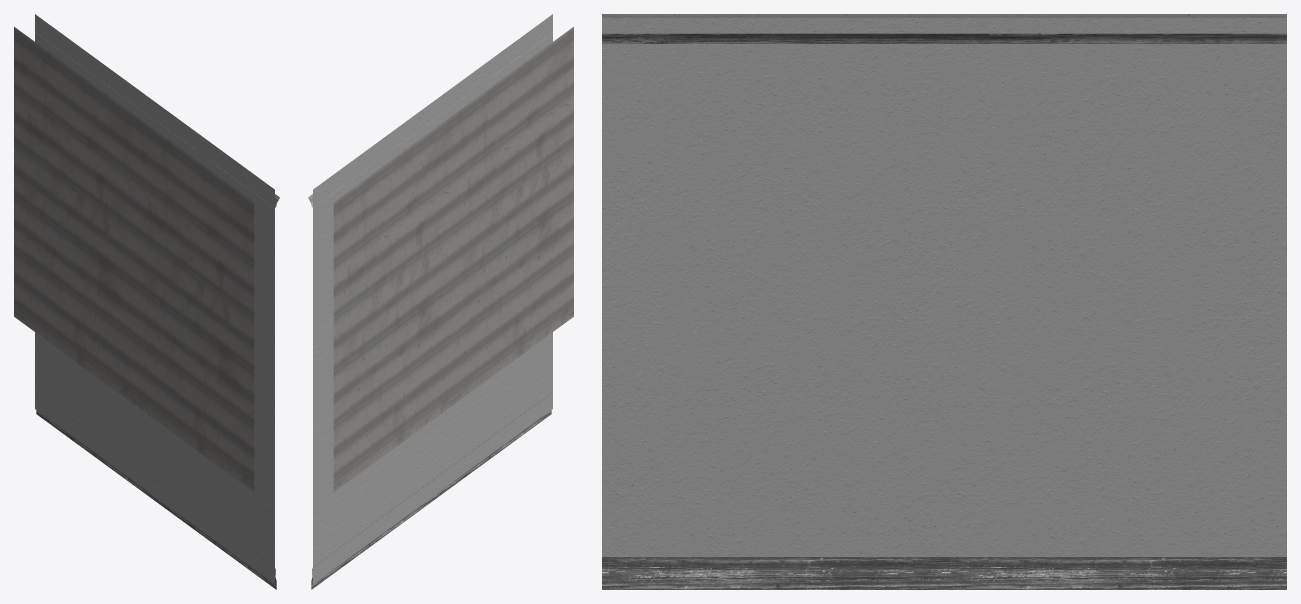
File: SM_Wall_Floor2_400.fbx
The picture shows the model from 3 angles, left to right: view 1: azimuth 30°, elevation 25°; view 2: azimuth 150°, elevation 25°; view 3: azimuth 270°, elevation 25°; orthographic projection. The views are drawn at different scales.
Parts seen in each view (by area): view 1: SM_Wall_Floor2_400; view 2: SM_Wall_Floor2_400; view 3: SM_Wall_Floor2_400.
Part boxes in pixels (x1=…): SM_Wall_Floor2_400: x1=14, y1=14, x2=279, y2=589; SM_Wall_Floor2_400: x1=308, y1=14, x2=573, y2=589; SM_Wall_Floor2_400: x1=602, y1=14, x2=1286, y2=589.
Bounding box in the file's own units: 17.23 × 280 × 258.
3 materials, 3 textured.
